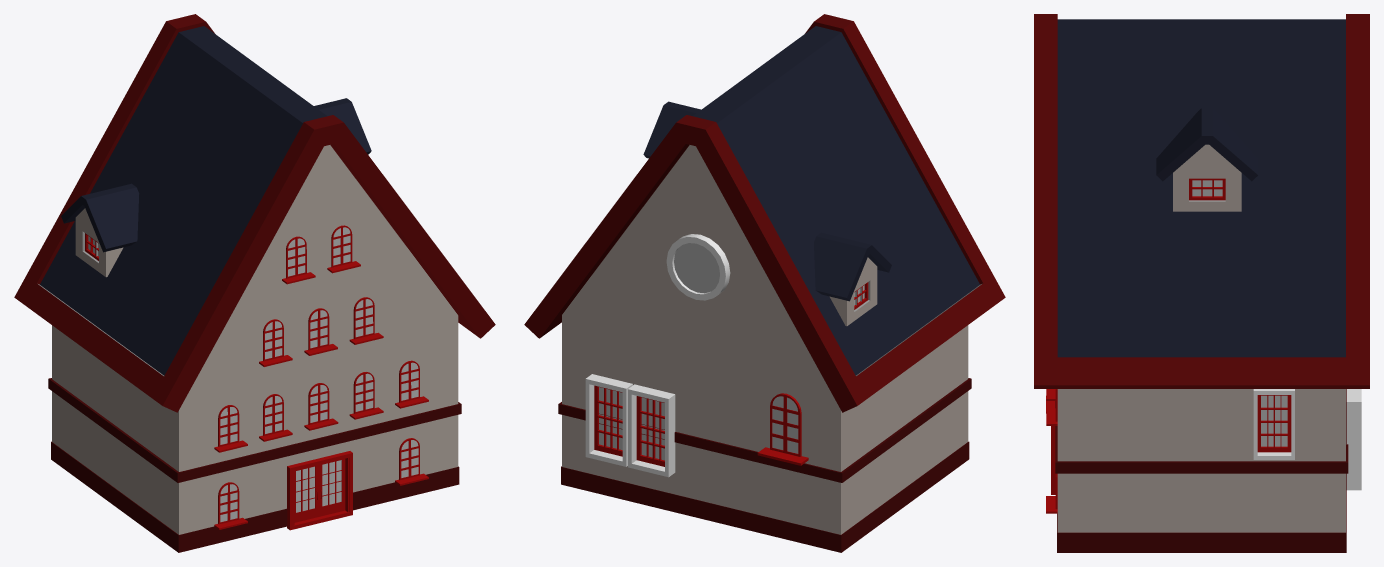
File: house2.fbx
3 renders of one model, left to right at view 1: azimuth 30°, elevation 25°; view 2: azimuth 150°, elevation 25°; view 3: azimuth 270°, elevation 25°, orthographic. The views are drawn at different scales.
Visible parts, largest first — view 1: ambientLight2; view 2: ambientLight2; view 3: ambientLight2.
Part boxes in pixels (left/top/right/bottom): ambientLight2: left=14, top=14, right=495, bottom=552; ambientLight2: left=524, top=14, right=1005, bottom=552; ambientLight2: left=1034, top=14, right=1369, bottom=552.
Bounding box in the file's own units: 9.21 × 10.62 × 7.1.
